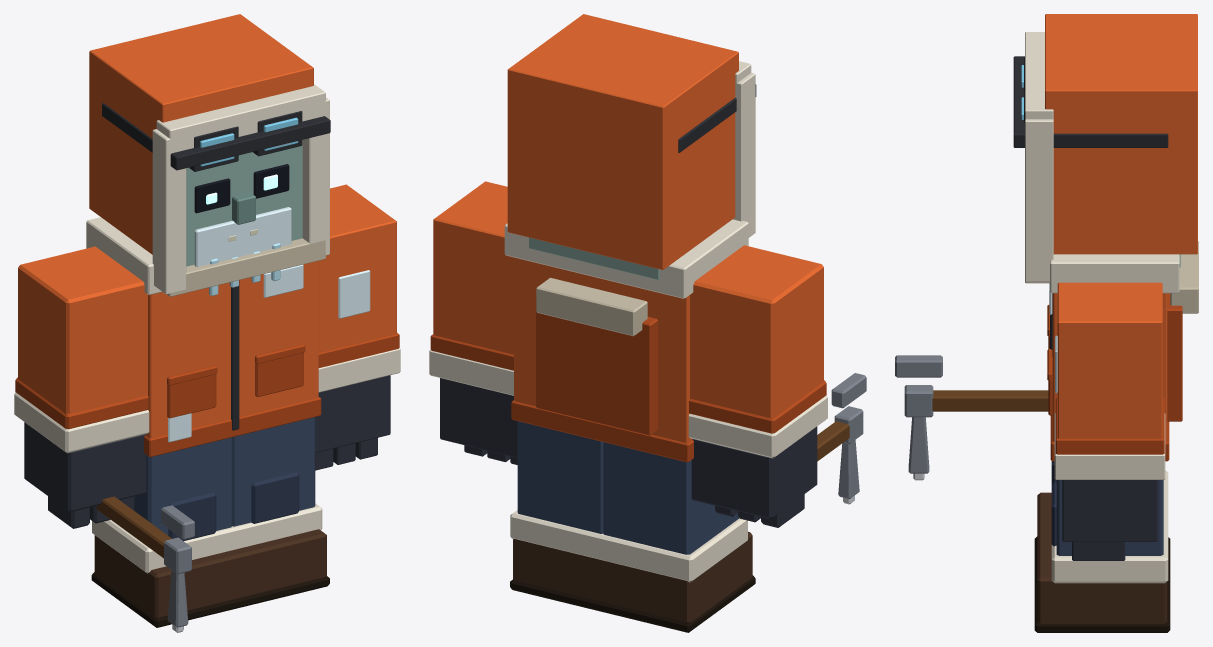
File: myw_zombiepolarexplorer.glb
3 renders of one model, left to right at view 1: azimuth 30°, elevation 25°; view 2: azimuth 150°, elevation 25°; view 3: azimuth 270°, elevation 25°, orthographic. The views are drawn at different scales.
Visible parts, largest first — view 1: Hat, RightArm, Torso, LeftArm, RightLeg, LeftLeg, Head, IceAxe; view 2: Hat, Torso, RightArm, RightLeg, LeftArm, LeftLeg, IceAxe, Head; view 3: Hat, LeftArm, LeftLeg, Torso, IceAxe, RightLeg.
Boxes of the visible parts, left/top/right/bottom form: Hat: left=89, top=14, right=330, bottom=296; RightArm: left=14, top=246, right=149, bottom=528; Torso: left=86, top=217, right=321, bottom=457; LeftArm: left=315, top=184, right=400, bottom=470; RightLeg: left=91, top=437, right=245, bottom=627; LeftLeg: left=230, top=417, right=329, bottom=606; Head: left=186, top=140, right=302, bottom=296; IceAxe: left=97, top=496, right=194, bottom=632; Hat: left=507, top=14, right=756, bottom=269; Torso: left=504, top=219, right=748, bottom=462; RightArm: left=688, top=245, right=827, bottom=527; RightLeg: left=596, top=442, right=755, bottom=632; LeftArm: left=429, top=181, right=517, bottom=464; LeftLeg: left=510, top=421, right=605, bottom=610; IceAxe: left=817, top=373, right=866, bottom=504; Head: left=529, top=237, right=659, bottom=279; Hat: left=1013, top=14, right=1197, bottom=283; LeftArm: left=1054, top=282, right=1165, bottom=560; LeftLeg: left=1034, top=480, right=1170, bottom=632; Torso: left=1047, top=241, right=1198, bottom=461; IceAxe: left=895, top=355, right=1048, bottom=480; RightLeg: left=1034, top=461, right=1170, bottom=582.
Size of the model in its own units: 4.62 by 6.83 by 3.5.
